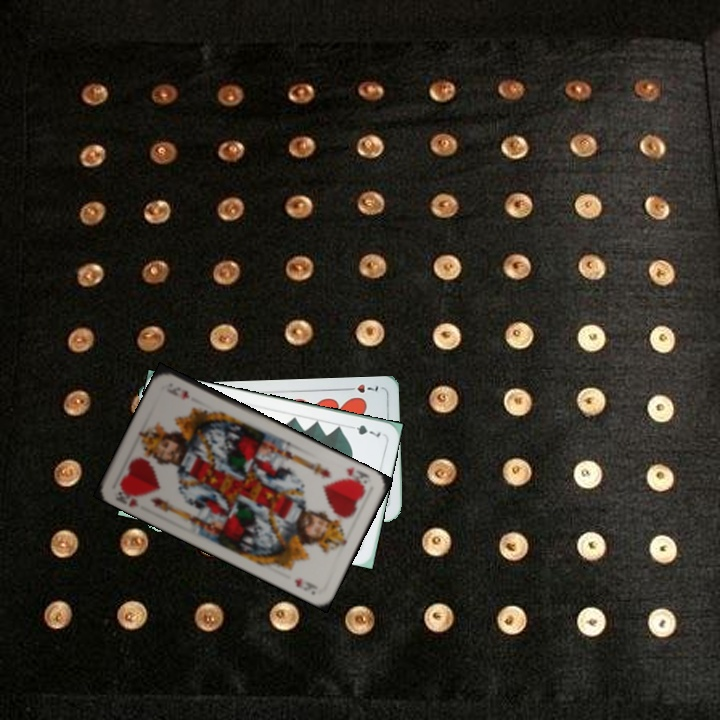G7: (344, 421, 383, 440)
H7: (342, 380, 380, 395)
HK: (111, 482, 145, 509), (341, 463, 372, 490)
